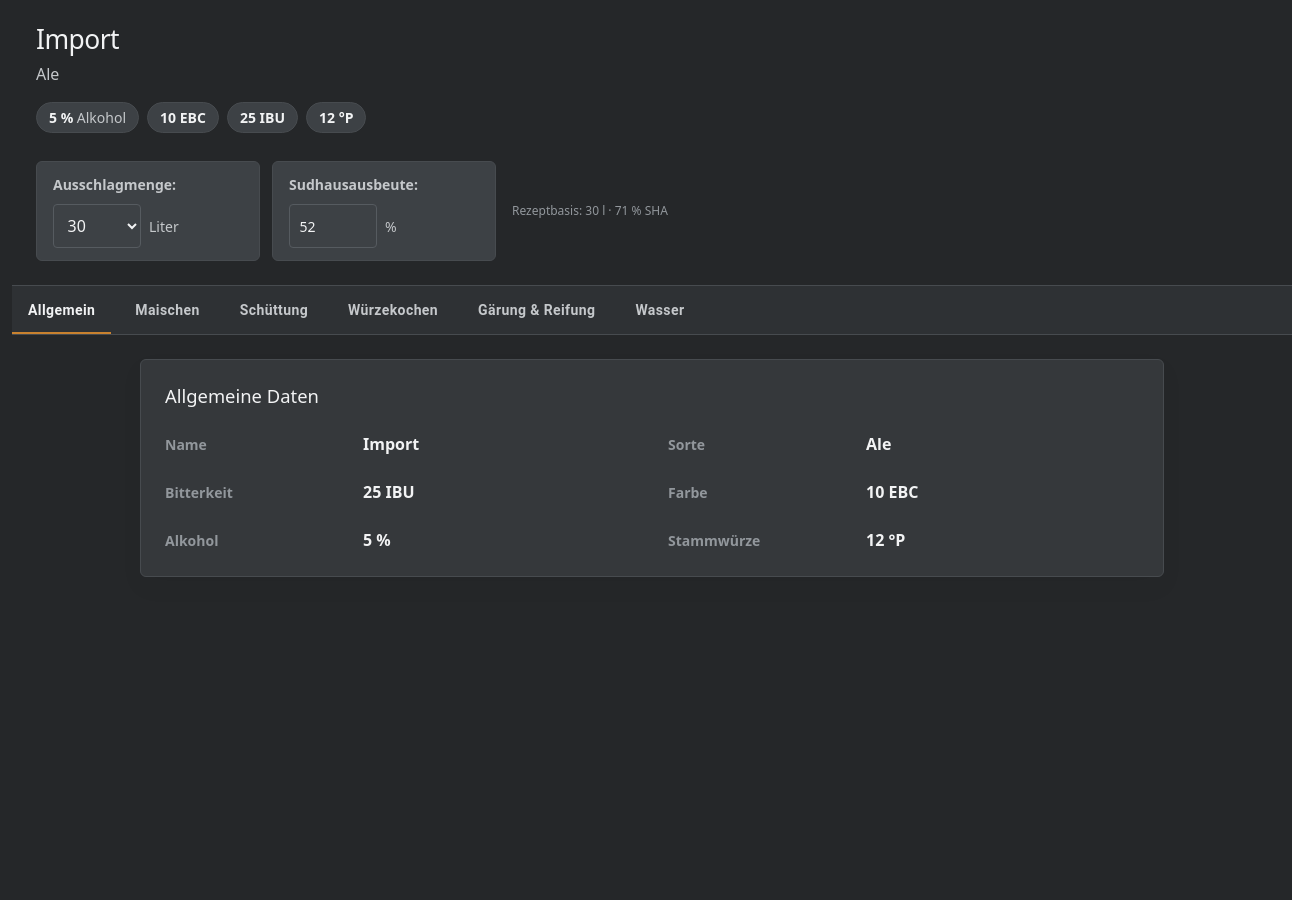
Test case: loads the hop master data and resolves a recipe hop by its id
Click the tab "Würzekochen" at (393, 310), box [332, 286, 454, 334]
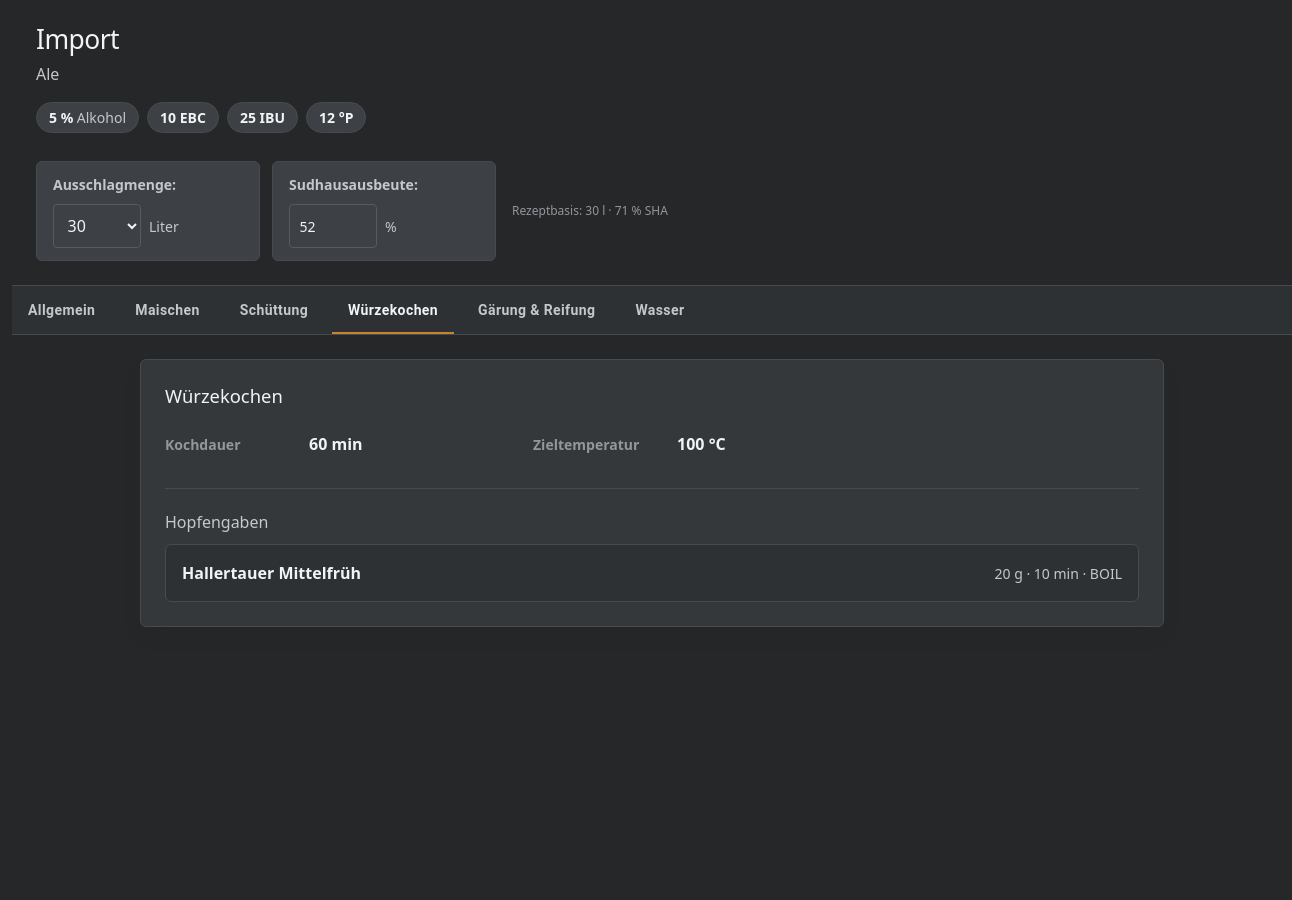
Result: the text "Hallertauer Mittelfrüh" is shown at [182, 562, 361, 586]
